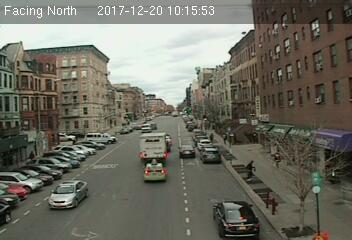car: (211, 200, 261, 237), (48, 180, 88, 208), (143, 161, 165, 182), (200, 146, 222, 163), (177, 145, 196, 158)
truck: (139, 132, 167, 162)
